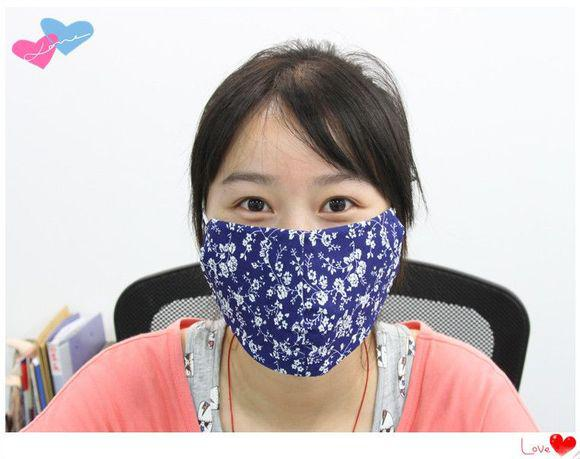OK: (209, 153, 401, 364)
